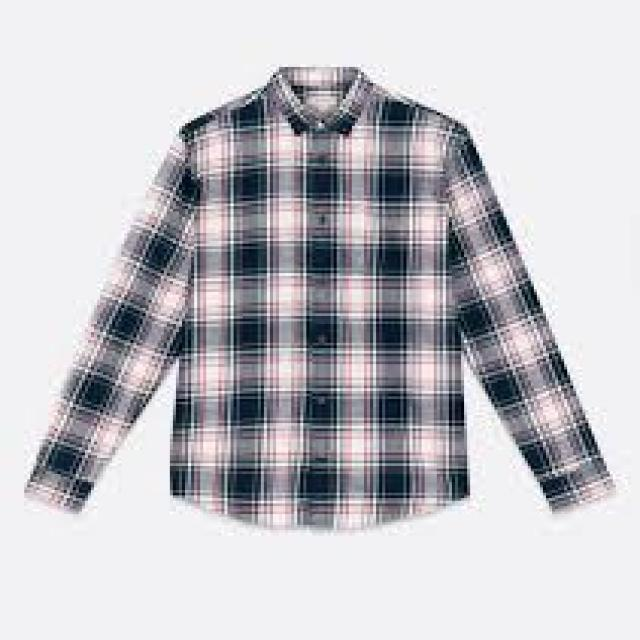plaid: (20, 59, 618, 530)
